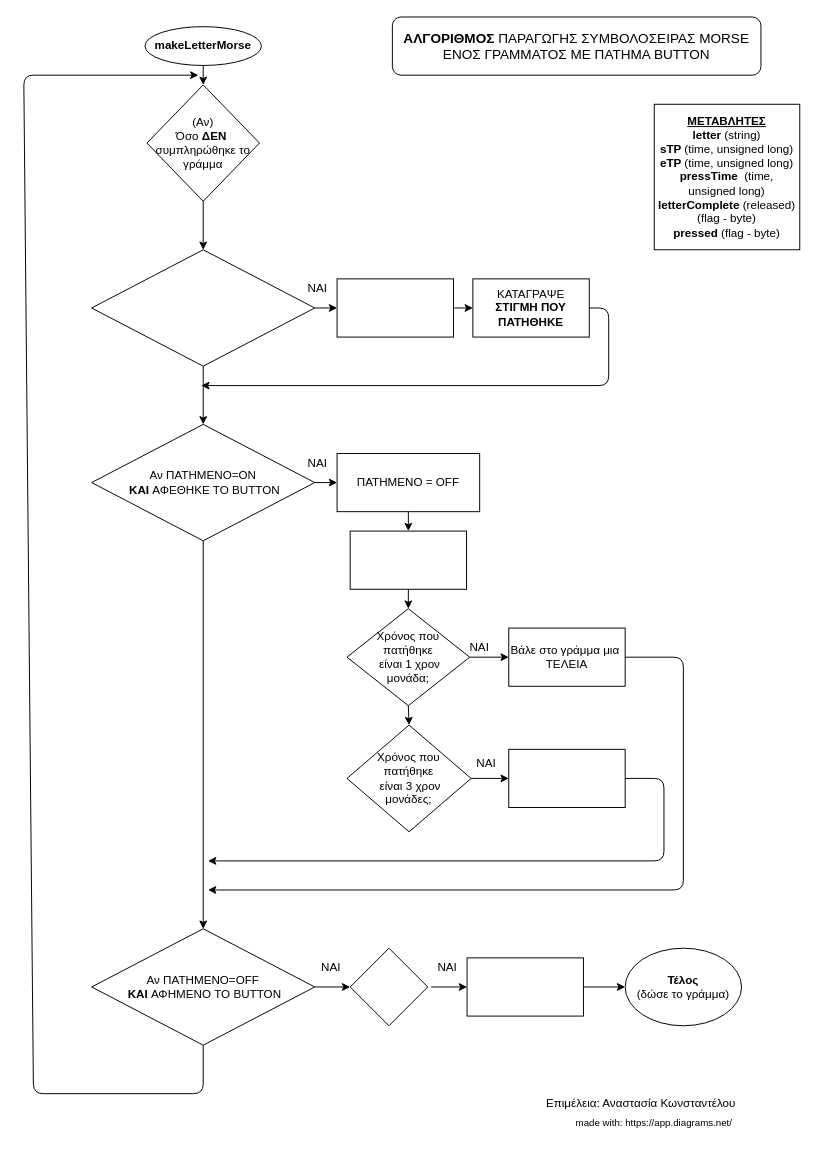
This 817x1149 diagram has some shape labels left out. The centre of each missing label's shape, as x and y in pixels:
"letterCompleted!" belongs at point 524,986.
"Αν ΠΑΤΗΜΕΝΟ=OFF KAI ΠΑΤΗΘΗΚΕ ΤΟ BUTTON" belongs at point 203,307.
"Βάλε στο γράμμα μια ΠΑΥΛΑ" belongs at point 566,778.
"ΚΑΤΑΓΡΑΨΕ ΣΤΙΓΜΗ ΠΟΥ ΑΦΕΘΗΚΕ" belongs at point 408,559.
"Πέρασαν 3 χρον μονάδες" belongs at point 388,986.
"ΠΑΤΗΜΕΝΟ = ΟΝ" belongs at point 394,307.
